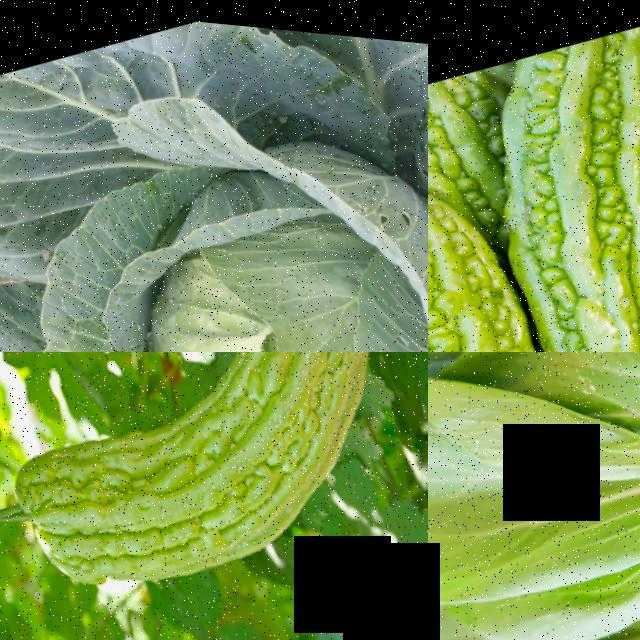bitter gourd: (0, 352, 428, 640), (452, 4, 640, 352), (428, 137, 588, 352)
bok choy: (428, 352, 640, 640)
cabbage: (0, 0, 428, 352)
